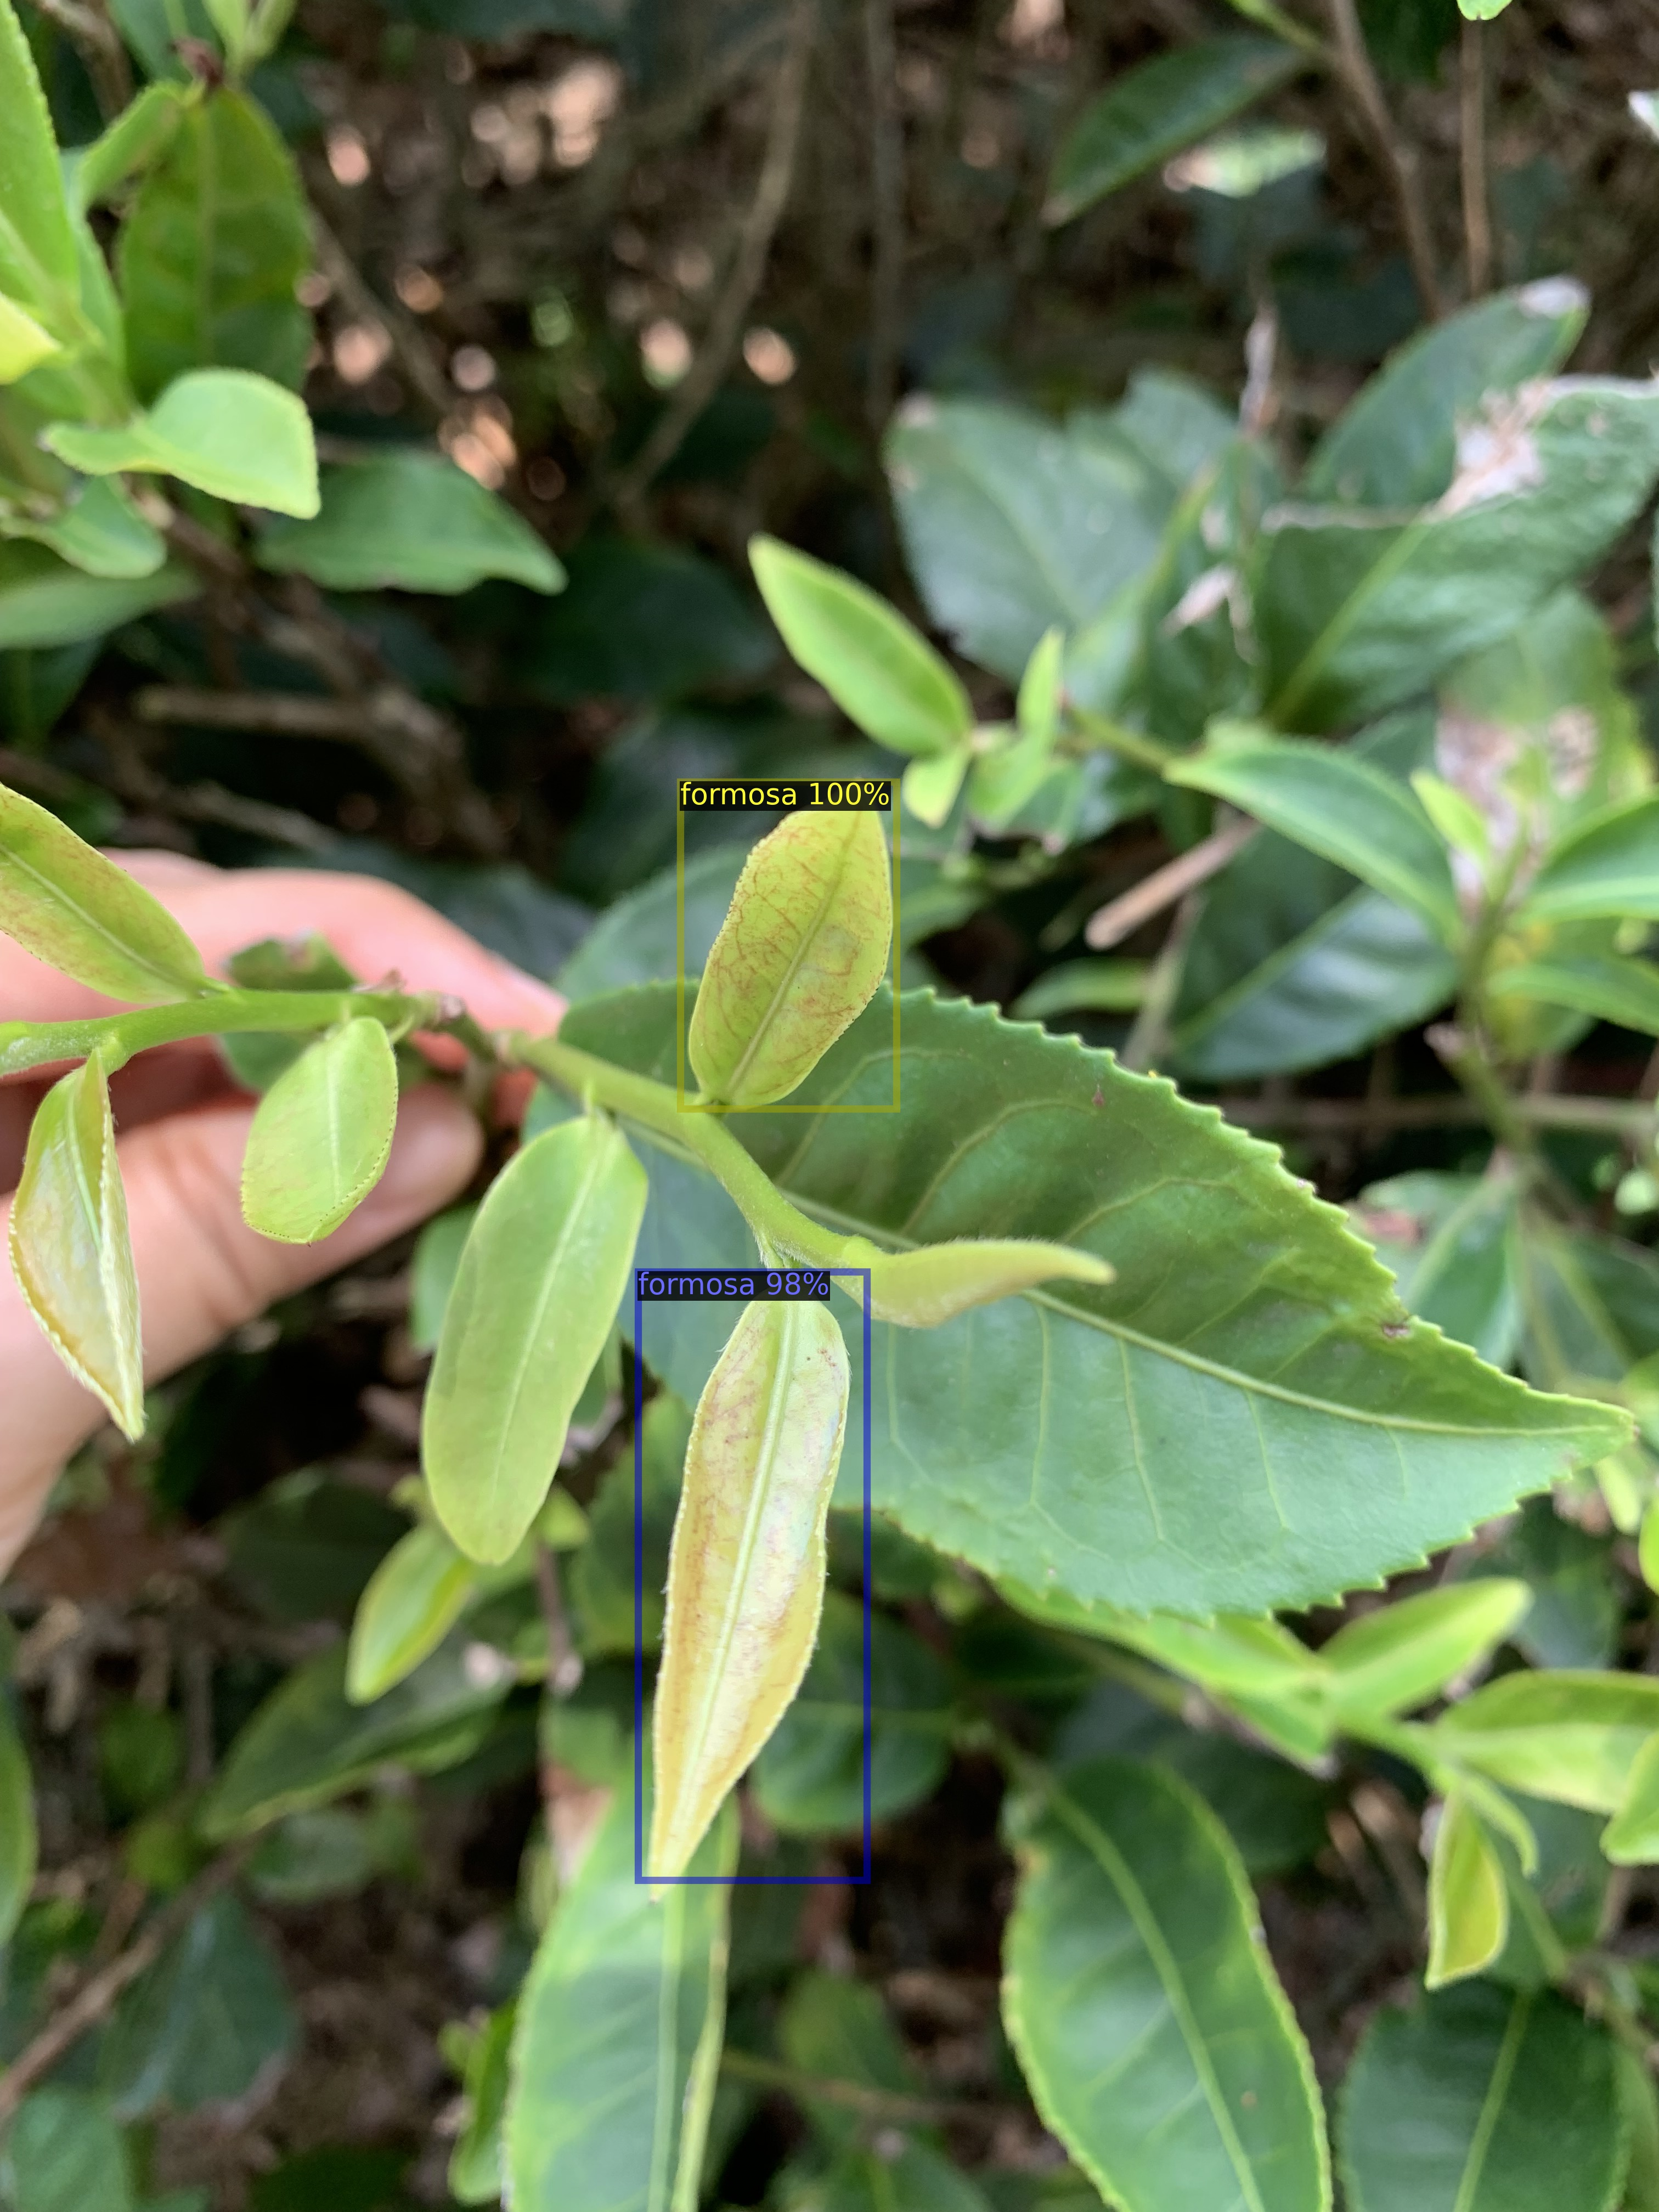formosa: (638, 1271, 866, 1879), (680, 782, 896, 1108)
